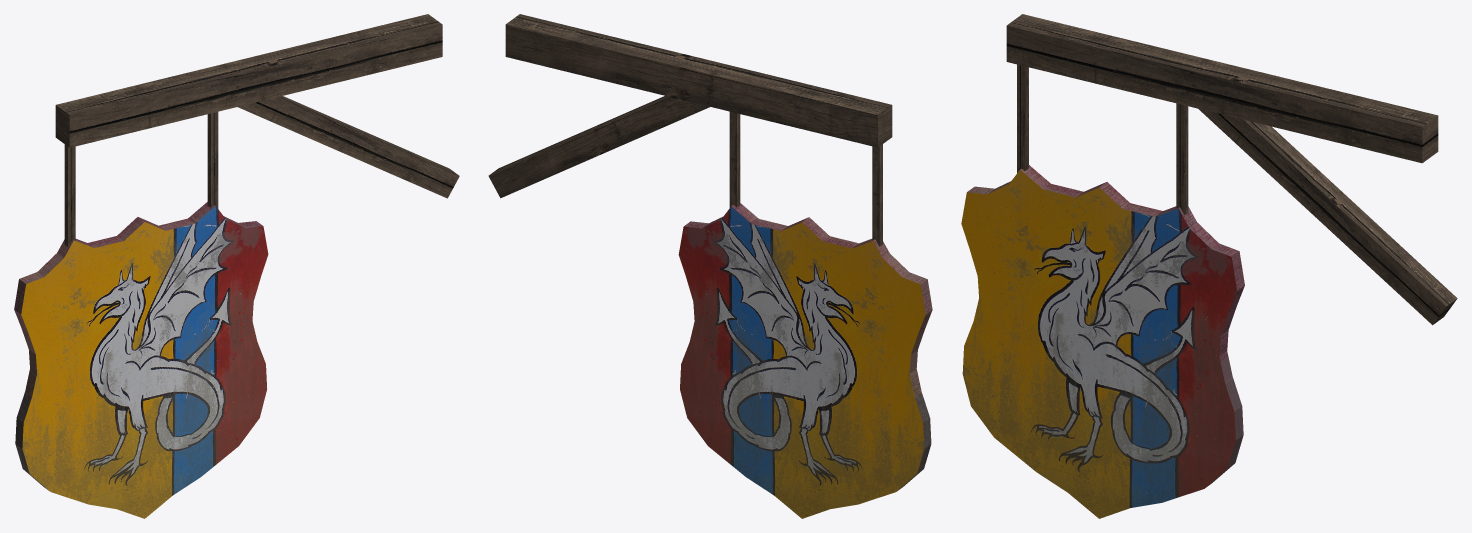
The model's file is f1_shield02.dae.
3 renders of one model, left to right at view 1: azimuth 30°, elevation 25°; view 2: azimuth 150°, elevation 25°; view 3: azimuth 330°, elevation 25°, orthographic. The views are drawn at different scales.
Parts seen in each view (by area): view 1: f1_shield02_Layer1; view 2: f1_shield02_Layer1; view 3: f1_shield02_Layer1.
Part boxes in pixels (x1,y1,x2,y2): f1_shield02_Layer1: (14, 14, 459, 518); f1_shield02_Layer1: (488, 14, 932, 518); f1_shield02_Layer1: (961, 14, 1457, 518).
Size of the model in its own units: 1.19 by 1.11 by 0.0671.
